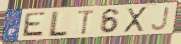6: (97, 8, 122, 35)
E: (20, 11, 47, 38)
J: (150, 5, 172, 31)
L: (46, 10, 70, 38)
T: (76, 9, 97, 36)
X: (123, 6, 149, 34)
